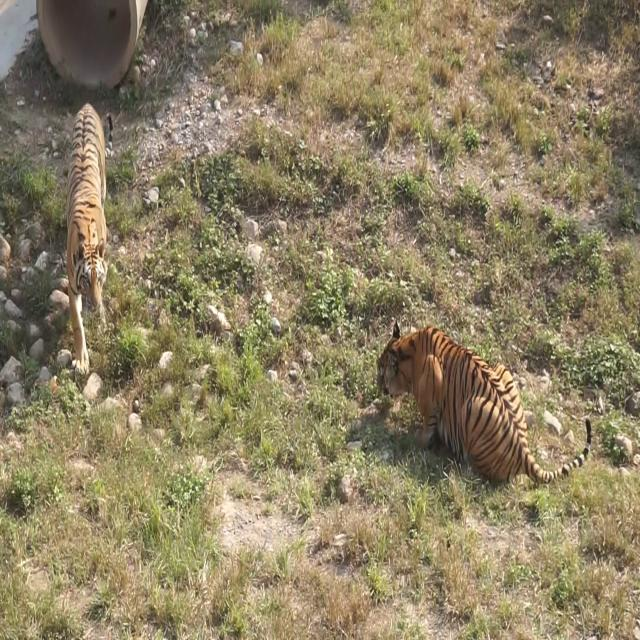Tiger: (376, 319, 592, 486), (48, 84, 148, 398)
